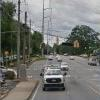Car: (38, 63, 68, 91)
